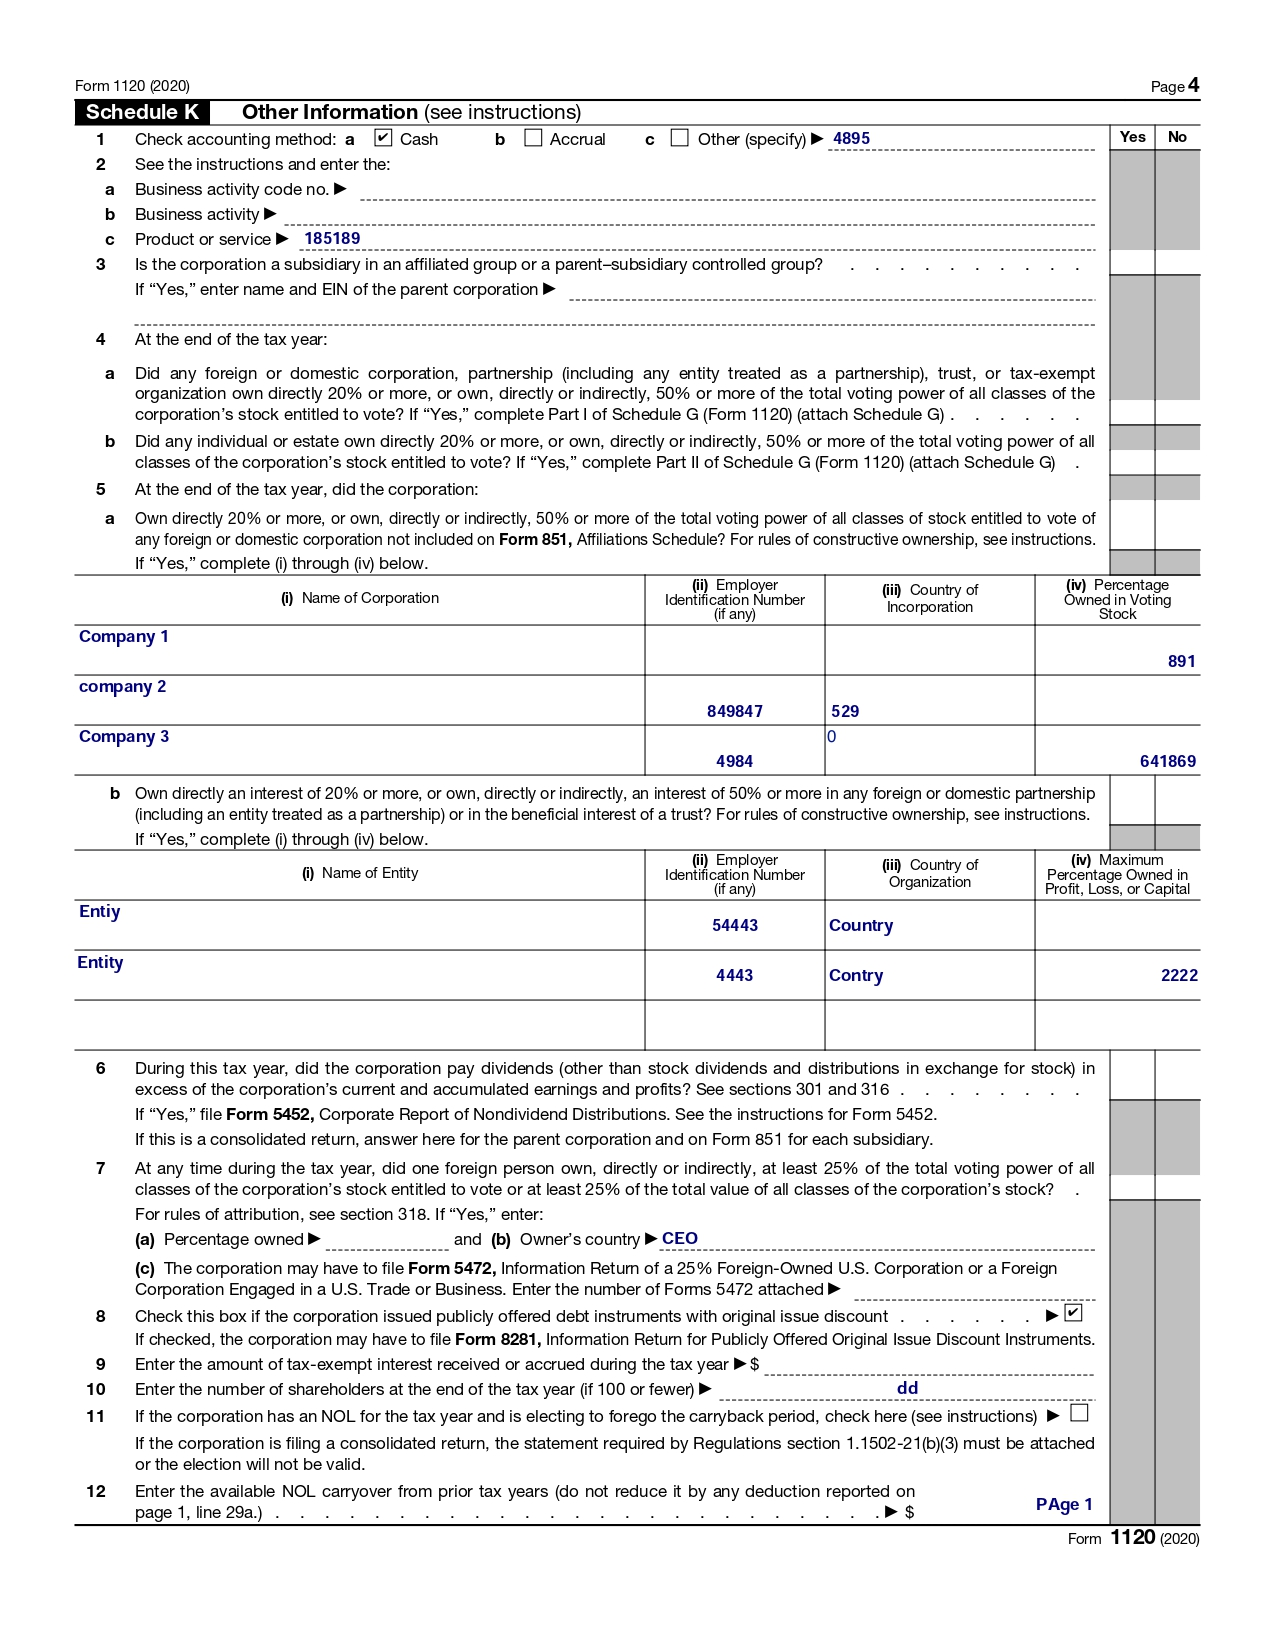table: (55, 94, 1227, 575), (60, 1051, 1225, 1529), (55, 852, 1240, 1054), (46, 575, 1231, 774), (46, 774, 1227, 849)
